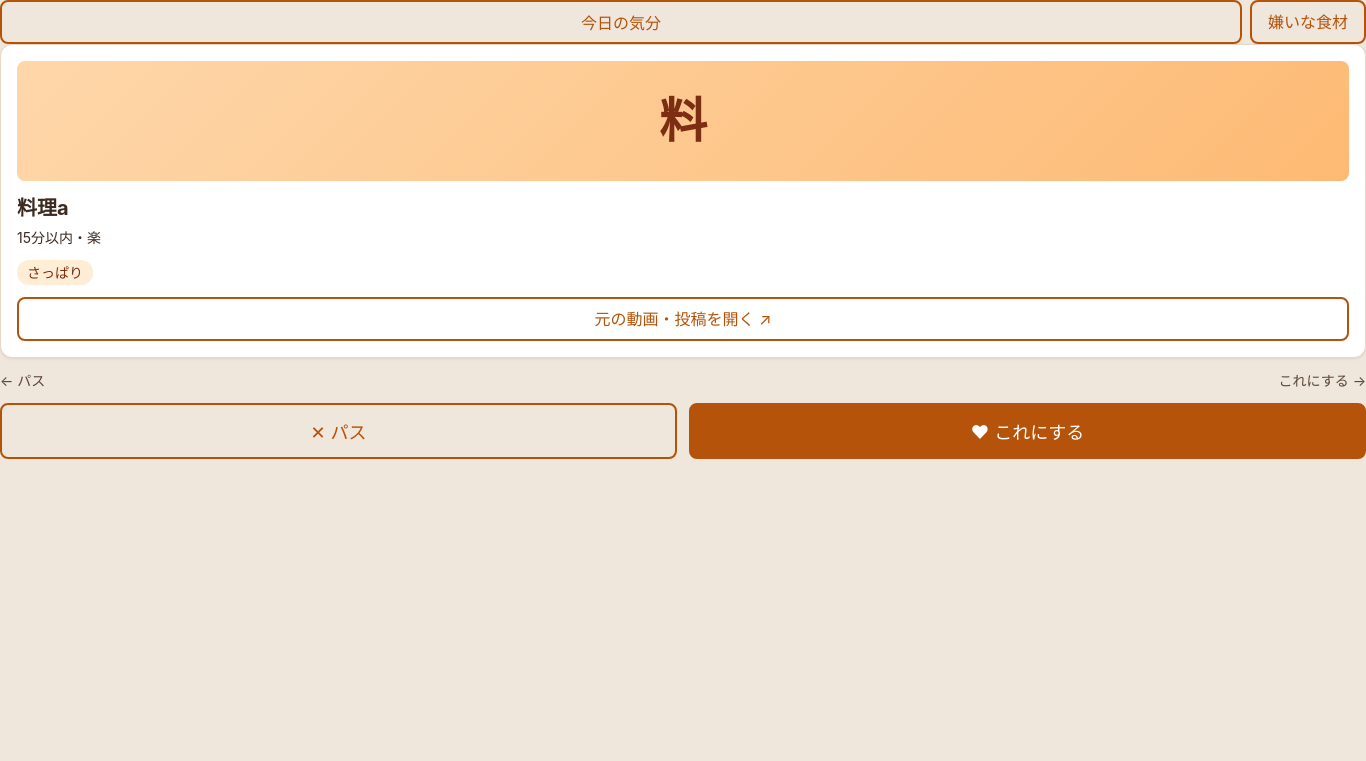
Scenario: 「今日の気分」のシート（BR10.10、BR10.13、BR10.15） › 買い物前から開ける。調理時間・手間・気分のタグの選択肢がすべて見える。条件なしで件数が出る
Expected: the heading with test id "dish-name" reads "料理a", [17, 196, 69, 220]
Click the button with test id "open-mood": x=621, y=22 [0, 0, 1242, 44]
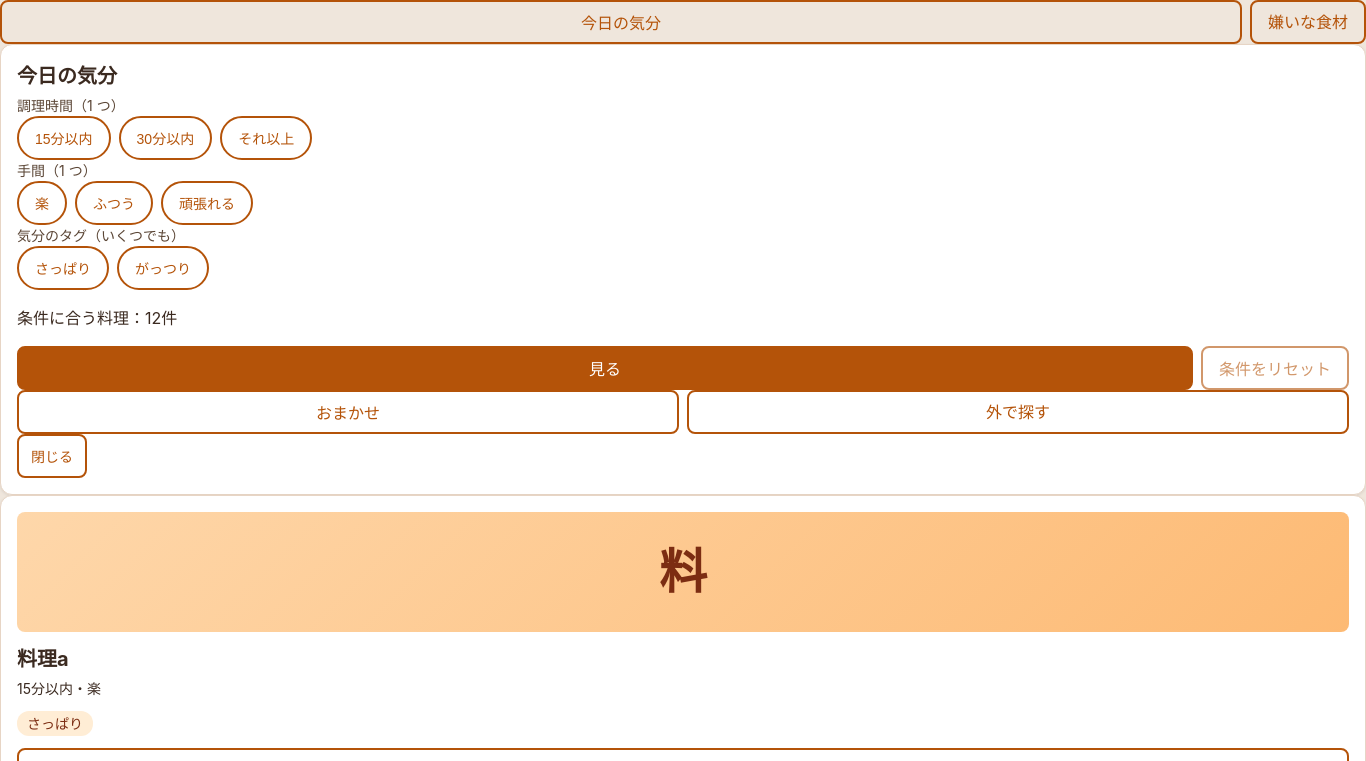
Expected: the button "15分以内" is shown, [17, 116, 111, 160]
Expected: the button "30分以内" is shown, [119, 116, 212, 160]
Expected: the button "それ以上" is shown, [220, 116, 312, 160]
